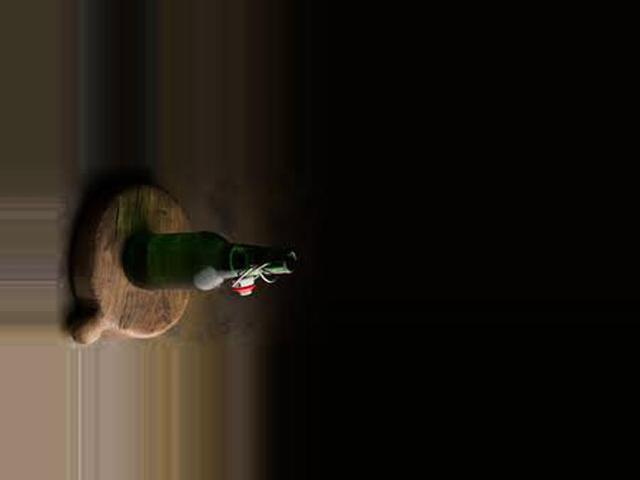beer: (126, 234, 298, 290)
